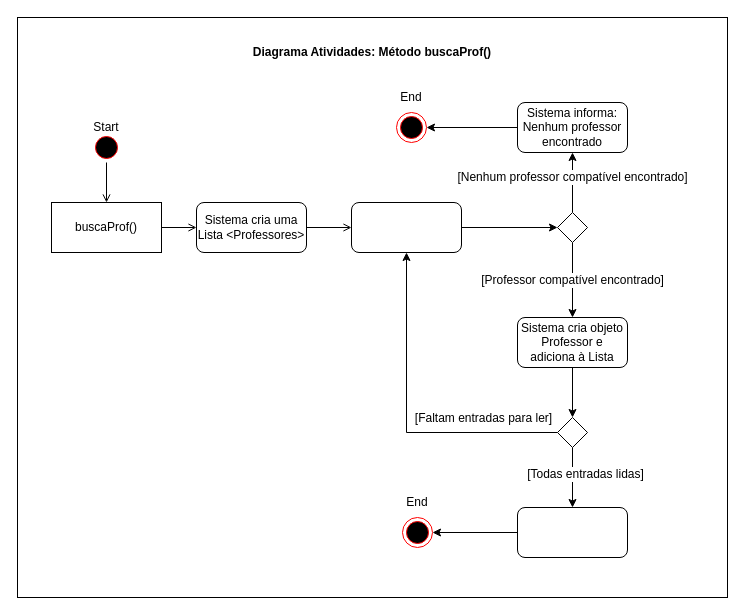
Image size: 745x615. Some labels were removed from this diagram. The shapes that lost their labels are listed below. From the top down, each one's box as (x1, y1, x2, y2) in pixels, then its label:
(350, 202, 462, 252): Sistema procura por Professor no Banco de Dados
(516, 506, 628, 558): Sistema retorna Lista de Professores
